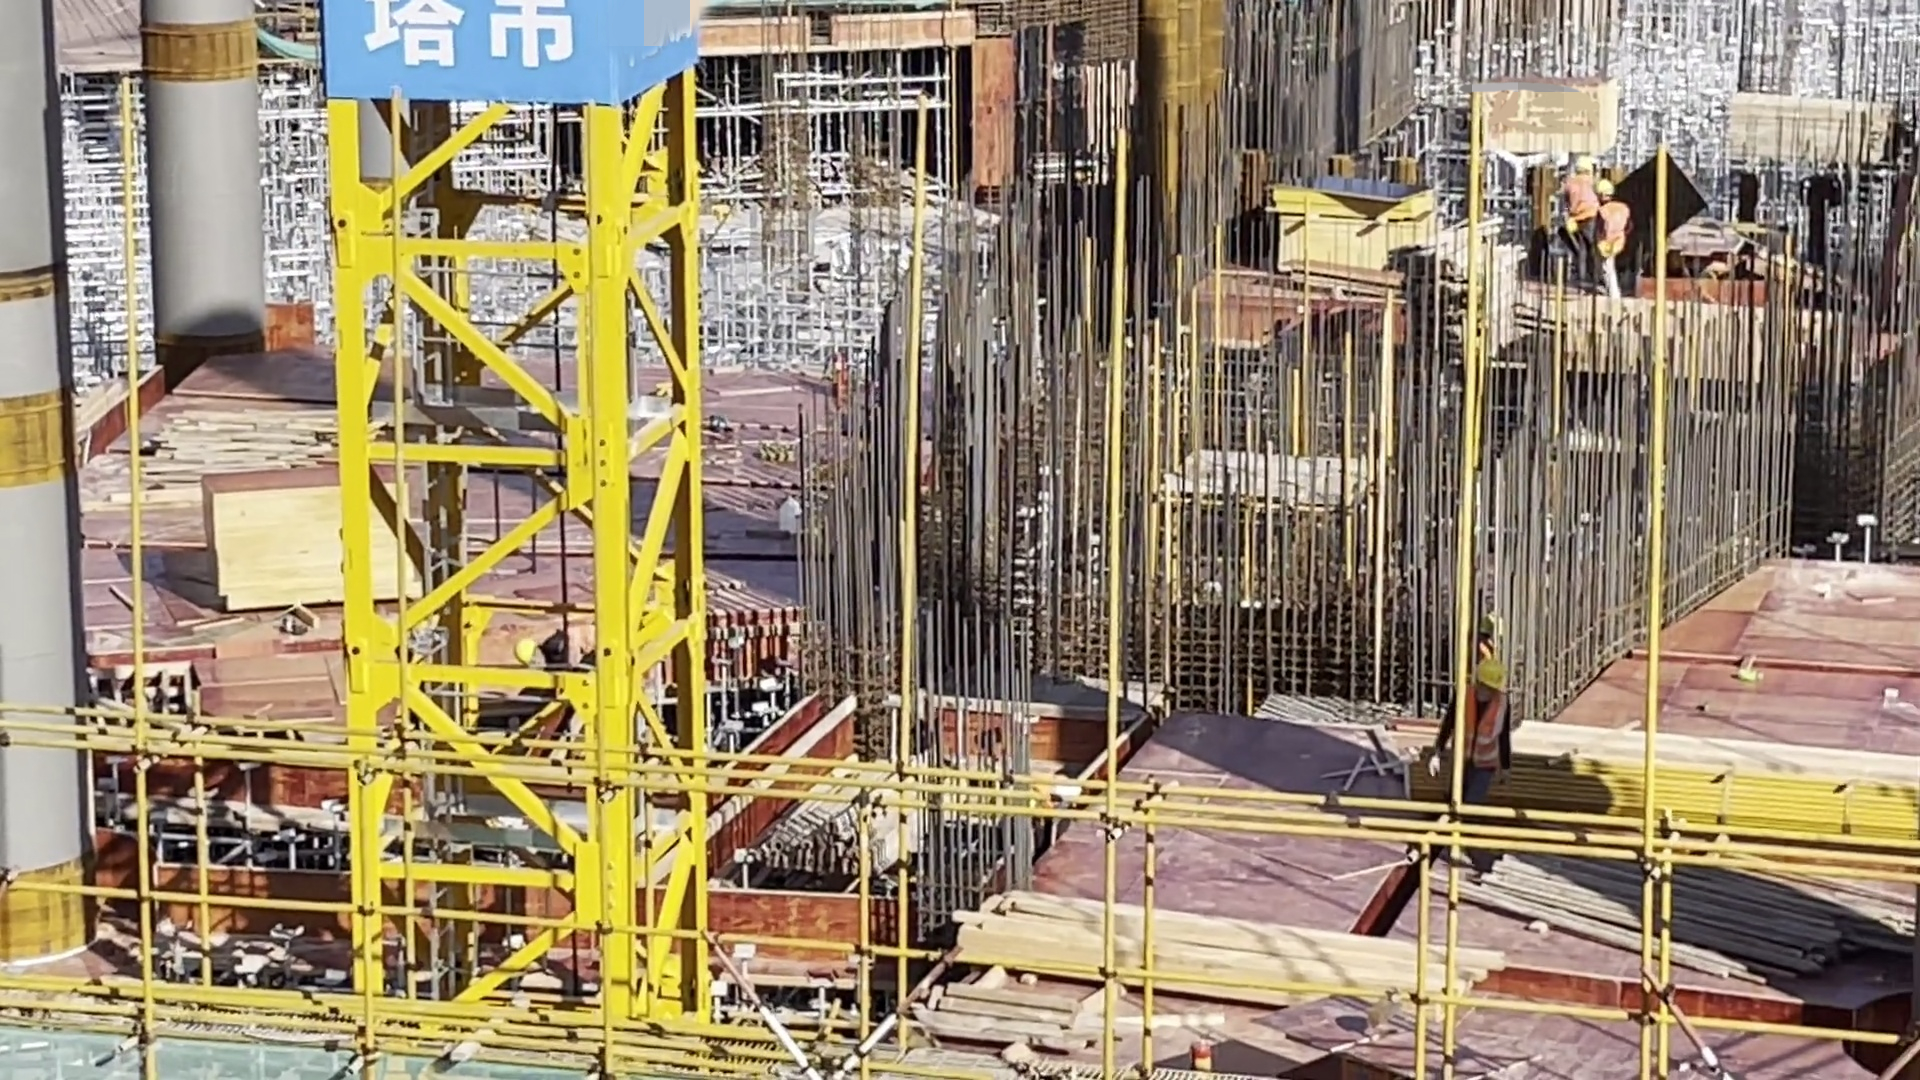board: (223, 457, 428, 637), (1714, 93, 1876, 166)
helmet: (1475, 653, 1510, 686), (514, 627, 544, 656), (1484, 613, 1503, 638), (1578, 149, 1592, 184), (1598, 181, 1607, 206)
person: (1448, 658, 1506, 831), (1599, 181, 1649, 316), (488, 626, 603, 675), (1562, 145, 1595, 276), (1473, 601, 1501, 646)
vest: (1449, 692, 1509, 756), (546, 616, 603, 664), (1604, 206, 1633, 262), (1563, 181, 1599, 222), (1475, 641, 1502, 661)
wood: (961, 819, 1493, 1017), (1419, 209, 1549, 344)
